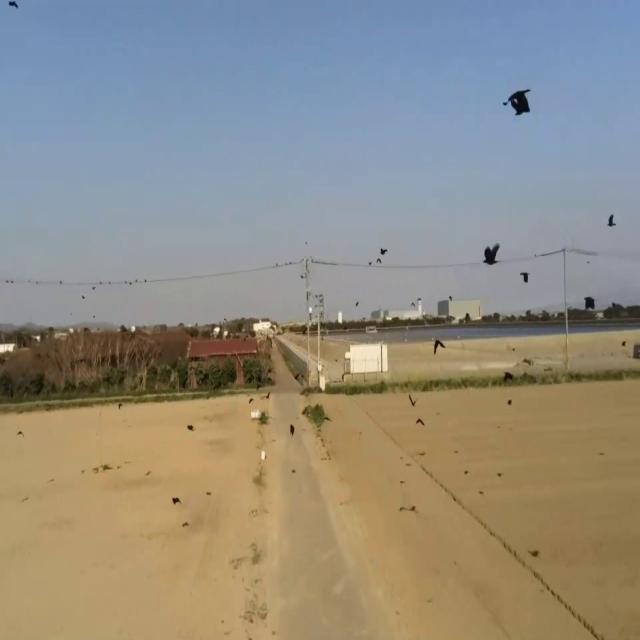bird: (504, 78, 532, 125), (484, 235, 500, 269), (433, 333, 444, 358), (171, 488, 182, 511), (408, 390, 417, 412), (608, 207, 615, 233), (7, 0, 19, 15), (521, 265, 529, 286), (379, 242, 387, 262), (92, 280, 97, 294), (81, 290, 85, 303)
